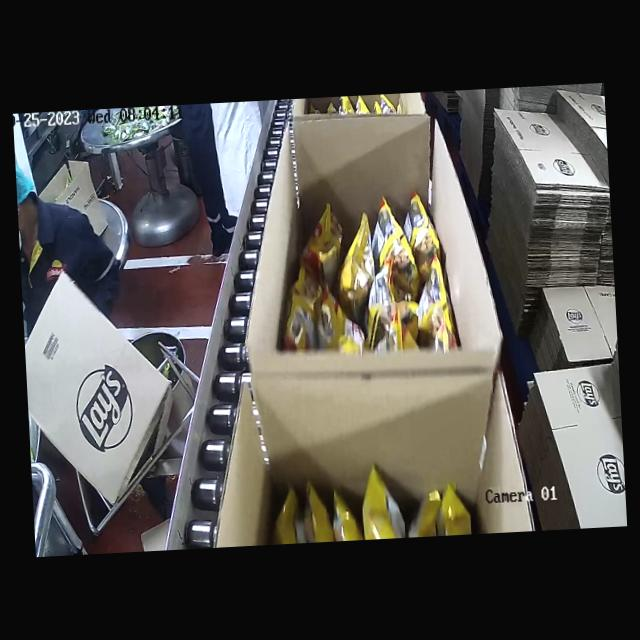salted: (276, 188, 460, 360), (266, 457, 478, 545), (308, 94, 402, 120)
